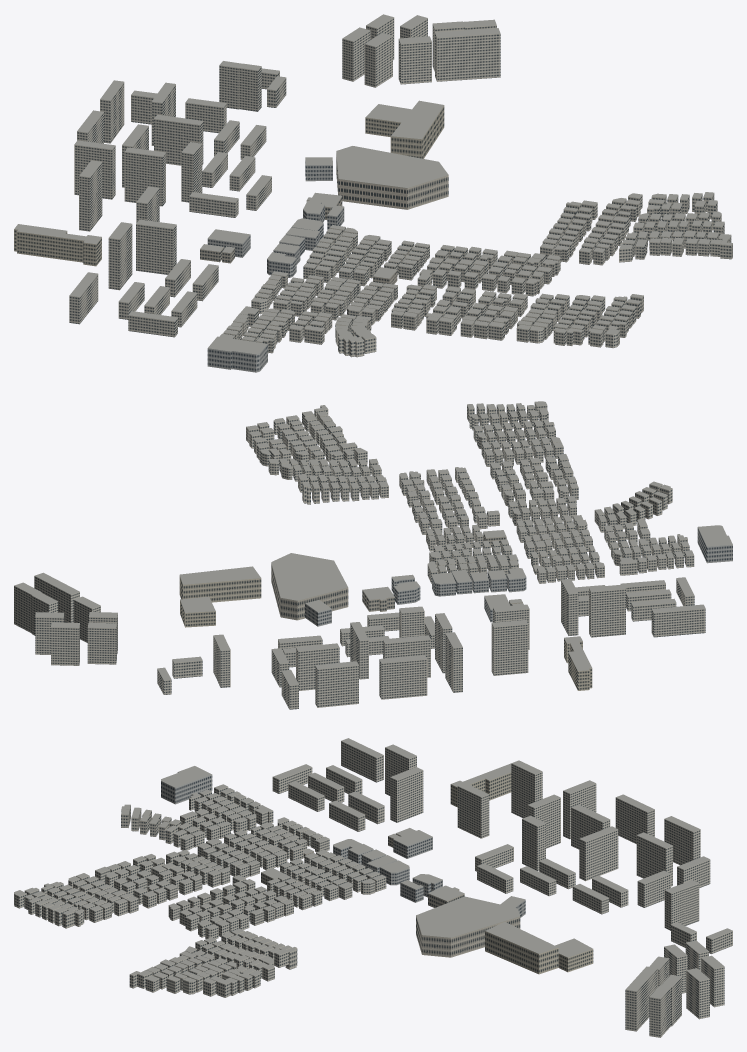
3 views of the same model, one above another, from view 1: azimuth 30°, elevation 25°; view 2: azimuth 150°, elevation 25°; view 3: azimuth 270°, elevation 25° (orthographic). The views are drawn at different scales.
Parts seen in each view (by area): view 1: ctx-apartments, ctx-roof, ctx-school, ctx-commercial, ctx-other; view 2: ctx-apartments, ctx-roof, ctx-commercial, ctx-school, ctx-other; view 3: ctx-apartments, ctx-roof, ctx-commercial, ctx-school, ctx-other.
Boxes of the visible parts, x1,y1,x2,y2 form: ctx-apartments: [69, 17, 732, 357]; ctx-roof: [14, 14, 732, 354]; ctx-school: [14, 105, 444, 266]; ctx-commercial: [207, 160, 344, 372]; ctx-other: [200, 153, 448, 284]; ctx-apartments: [14, 402, 705, 709]; ctx-roof: [14, 401, 732, 685]; ctx-commercial: [305, 527, 732, 626]; ctx-school: [179, 575, 592, 690]; ctx-other: [271, 532, 536, 620]; ctx-apartments: [14, 741, 732, 1037]; ctx-roof: [14, 738, 732, 998]; ctx-commercial: [161, 772, 525, 917]; ctx-school: [450, 772, 593, 974]; ctx-other: [261, 833, 520, 957].
Bounding box in the file's own units: 721 × 75.51 × 825.
5 materials, 4 textured.
